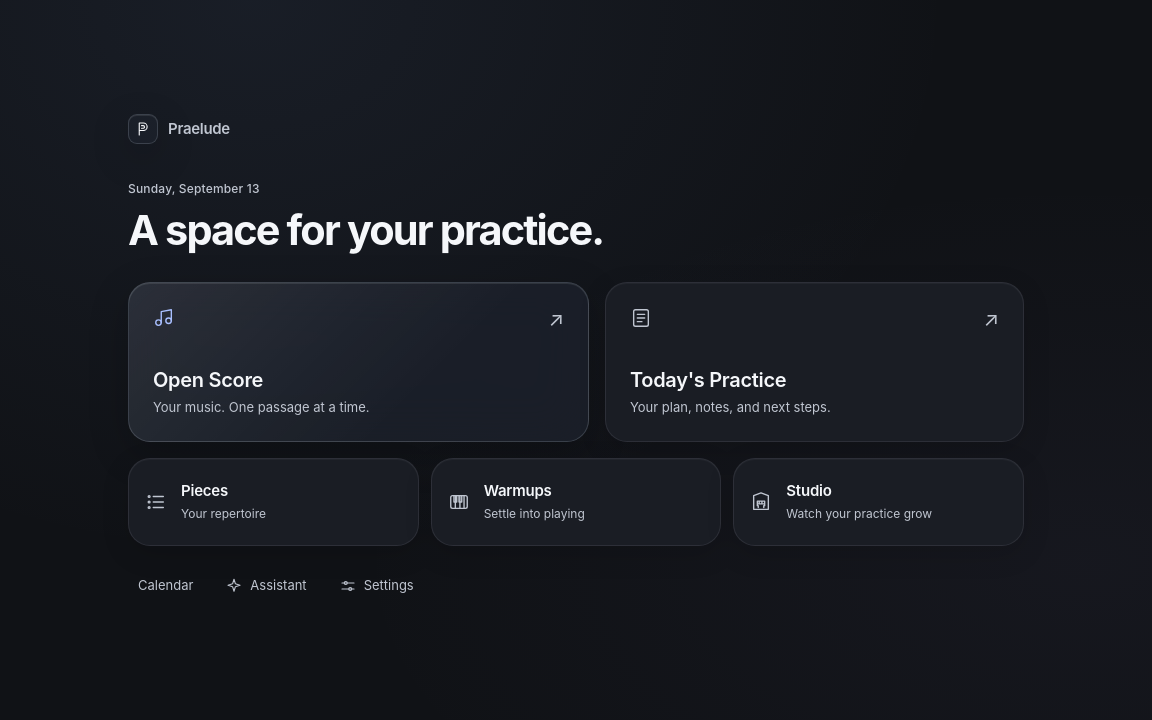
Test: TodayWorkspace practice window › closes the practice window with the × control
Click the button "Today's Practice": (708, 380) [605,282,1024,442]
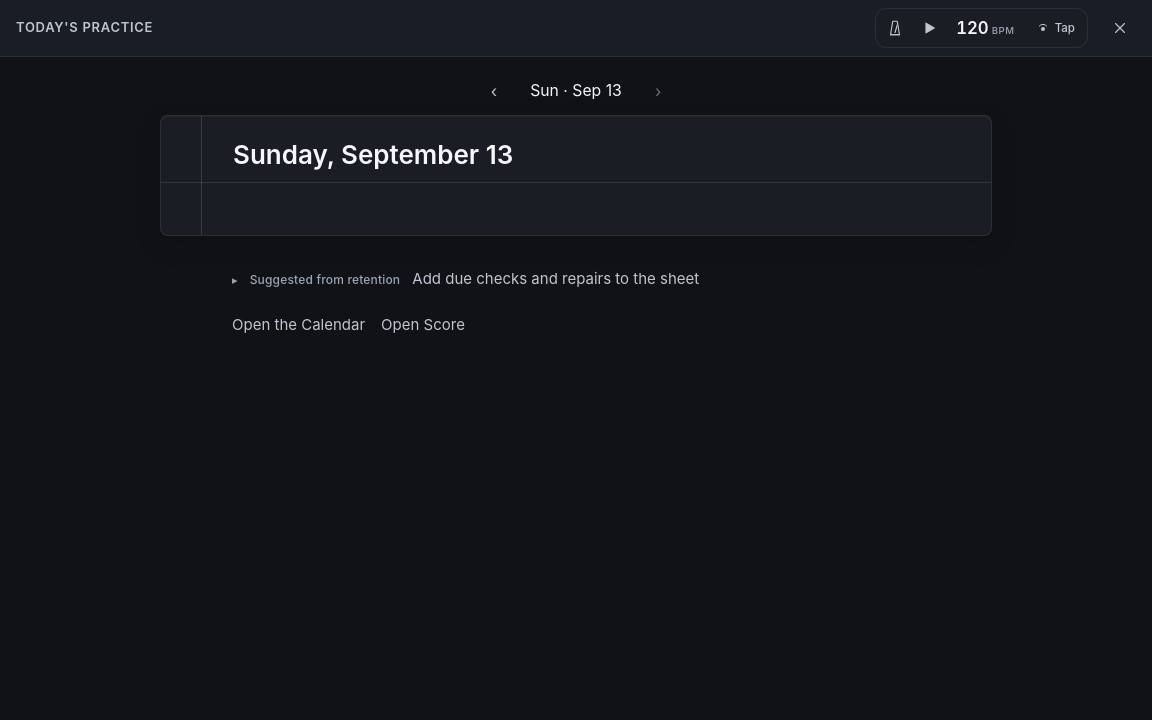
expect the element "Today's Practice" is shown: met
Click the button named "Close Today's Practice": (1120, 28) [1100,8,1140,48]
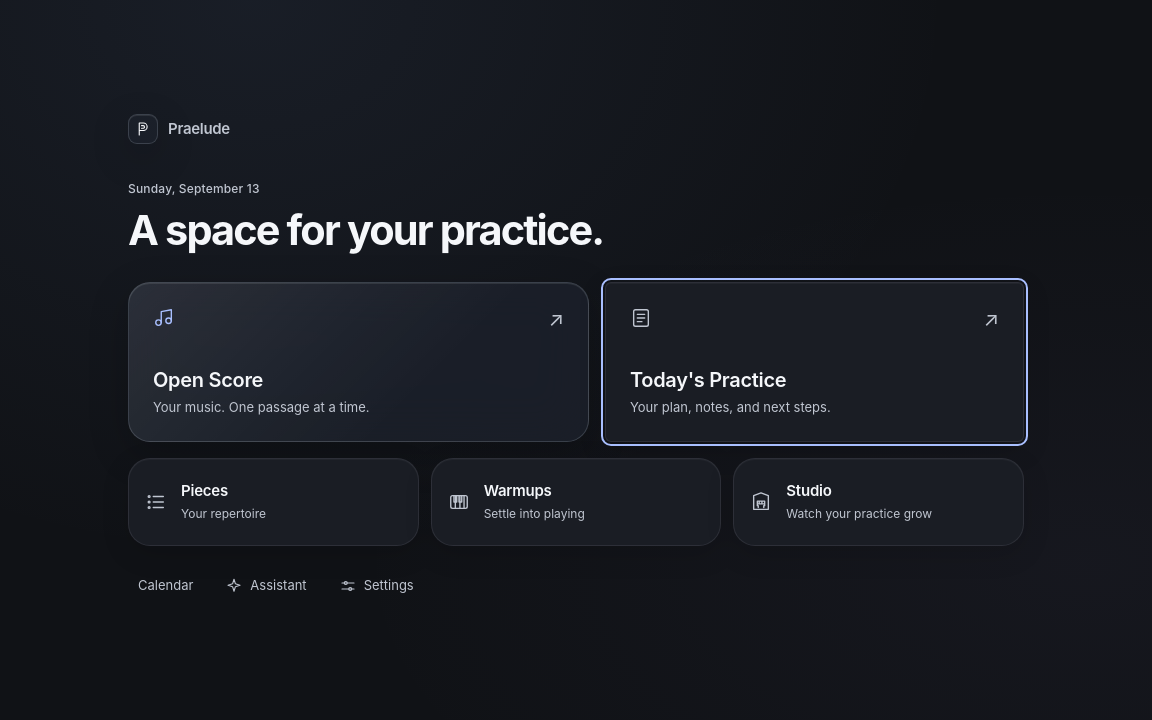
expect the button "Today's Practice" is shown: met, box [605,282,1024,442]
